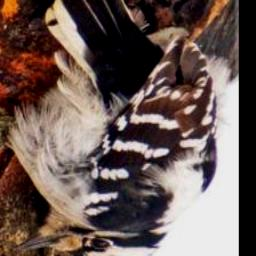Woodpecker: (0, 0, 233, 256)
